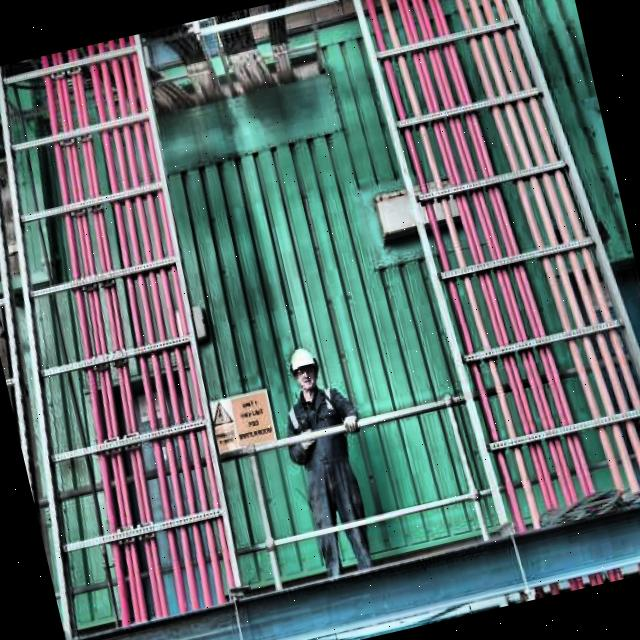helmet: (282, 340, 324, 399)
